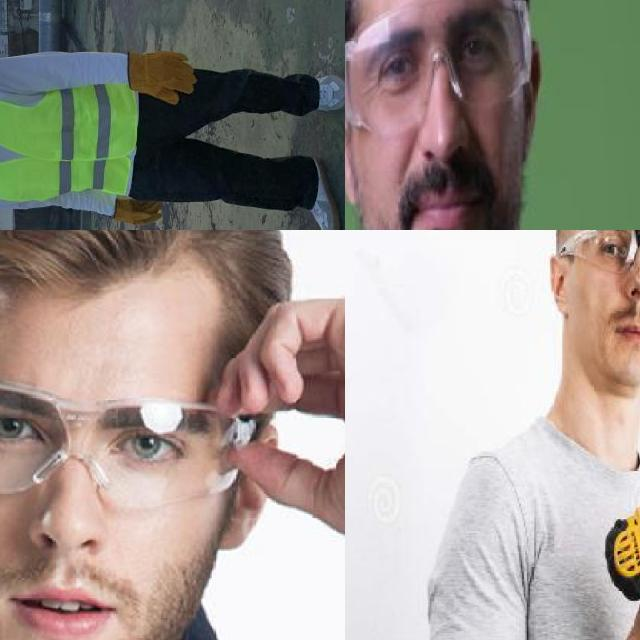No_Ear-Protection: (545, 255, 579, 319)
boots: (304, 153, 345, 230), (308, 74, 345, 114)
face_nomask: (0, 391, 191, 640), (345, 0, 532, 230), (586, 230, 640, 361)
glasses: (0, 366, 265, 512), (345, 0, 532, 144), (557, 230, 640, 286)
hand_noglove: (207, 289, 345, 533)
head_nohelmet: (0, 230, 297, 320)
person: (429, 230, 640, 640), (0, 26, 345, 230), (345, 0, 640, 230)
vest: (0, 80, 139, 198)
